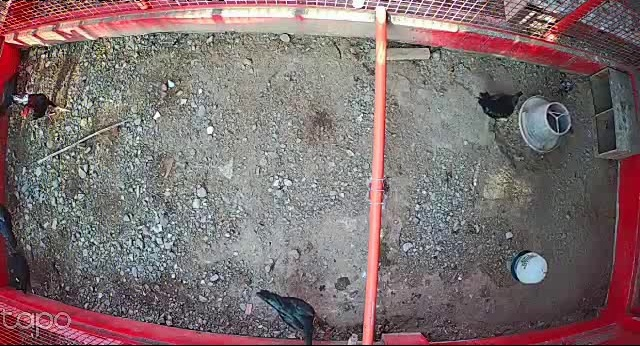Chicken: (253, 286, 317, 346), (474, 87, 525, 122), (4, 247, 32, 295)
Drinker: (509, 249, 549, 286)
Feeder: (516, 93, 573, 156)
Rooster: (4, 86, 72, 125)
